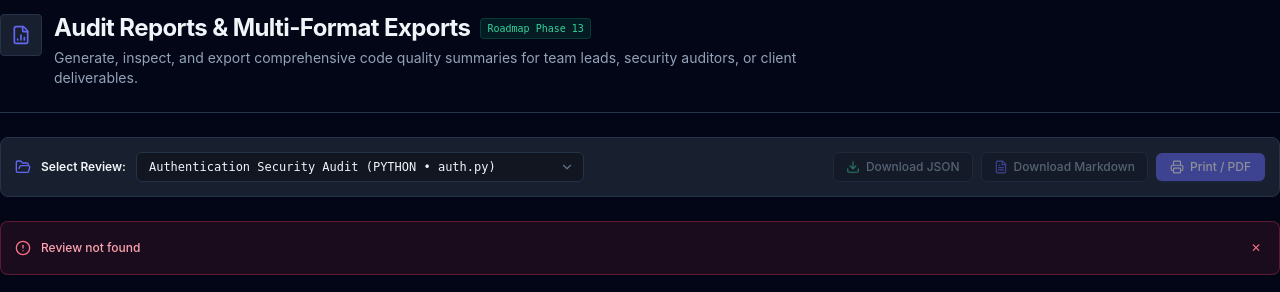
Phase 13: Audit Reports & Multi-Format Exporters Frontend Tests › Test 9 (Error Handling): renders dismissible alert banner when report API returns an error
This screenshot has width=1280, height=292.
Expected: the message "Review not found ✕" is shown, [0,221,1279,275]
Expected: the text "Review not found" is shown, [41,240,140,256]
Note: Dismiss error
Click the button named "Dismiss error": point(1256, 248) [1247,236,1265,260]
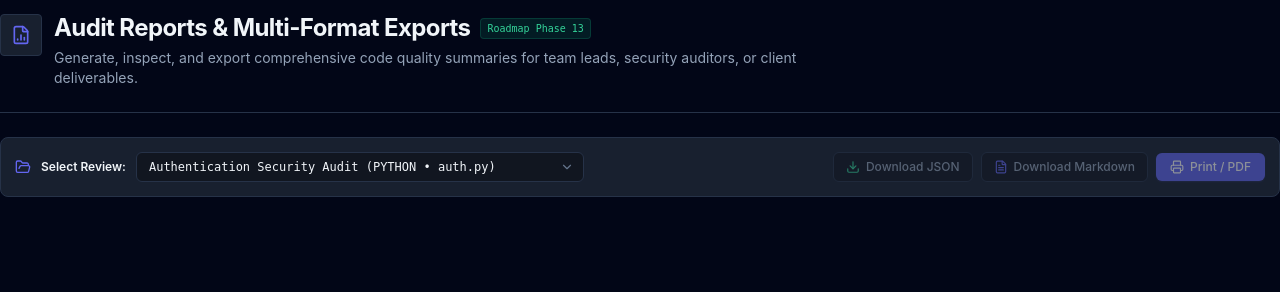
Expected: the text "Review not found" is gone
